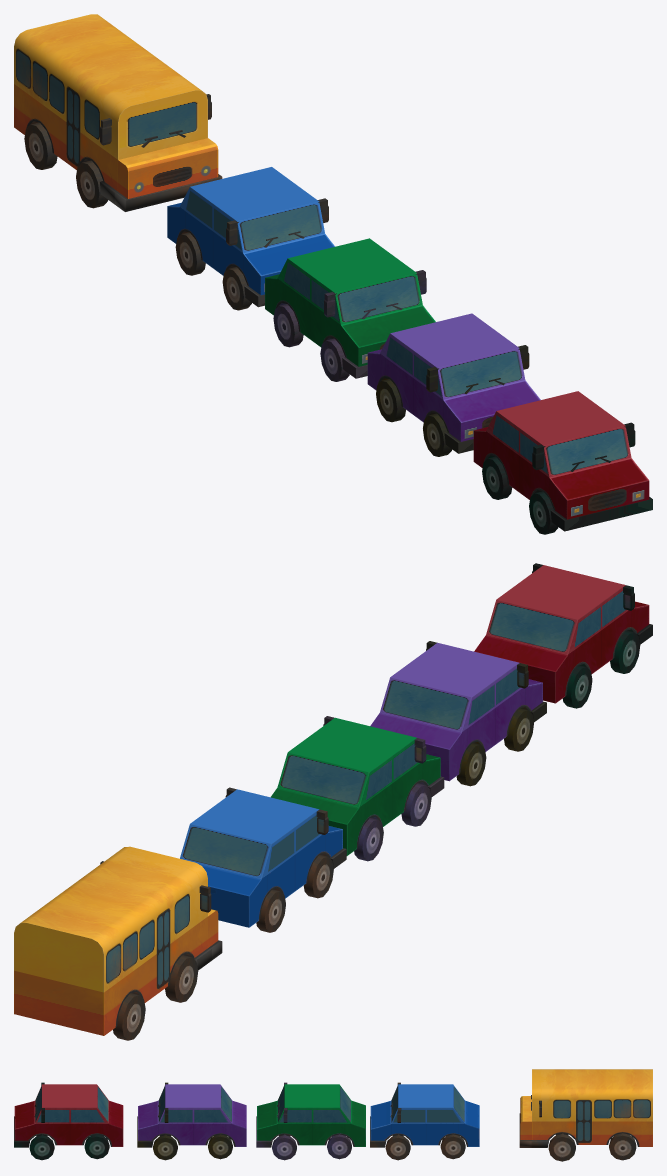
File: CarBus.fbx
3 views of the same model, one above another, from view 1: azimuth 30°, elevation 25°; view 2: azimuth 150°, elevation 25°; view 3: azimuth 270°, elevation 25° (orthographic). The views are drawn at different scales.
Parts seen in each view (by area): view 1: Bus, Car.003, Car.002, Car.001, Car; view 2: Bus, Car.003, Car, Car.002, Car.001; view 3: Bus, Car.003, Car, Car.001, Car.002.
Part boxes in pixels (box(x1,y1,x2,y2)): Bus: box(14, 14, 222, 211); Car.003: box(473, 391, 652, 534); Car.002: box(367, 313, 540, 456); Car.001: box(265, 238, 435, 381); Car: box(167, 167, 334, 310); Bus: box(14, 846, 222, 1040); Car.003: box(474, 563, 652, 708); Car: box(180, 787, 346, 932); Car.002: box(370, 641, 546, 786); Car.001: box(271, 716, 444, 861); Bus: box(519, 1069, 652, 1161); Car.003: box(14, 1082, 123, 1160); Car: box(370, 1082, 479, 1160); Car.001: box(256, 1082, 365, 1160); Car.002: box(137, 1082, 246, 1160).
Bounding box in the file's own units: 243 × 247 × 2114.
Materials: 5 (5 with a texture image).
